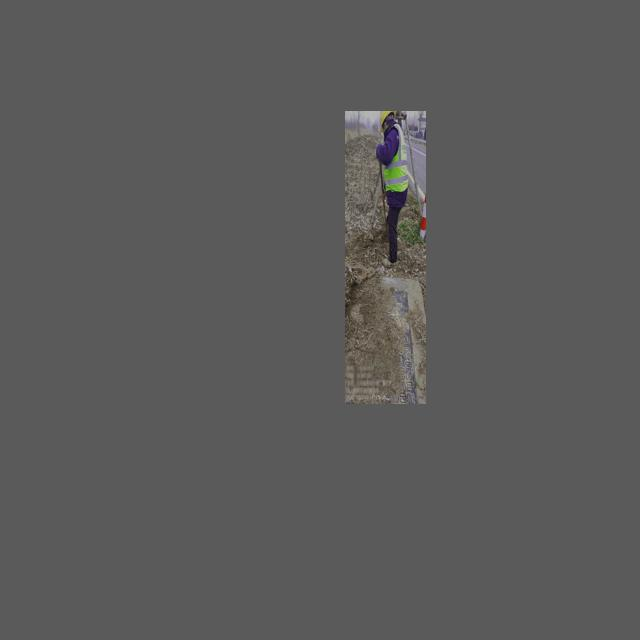good: (346, 287, 417, 404)
